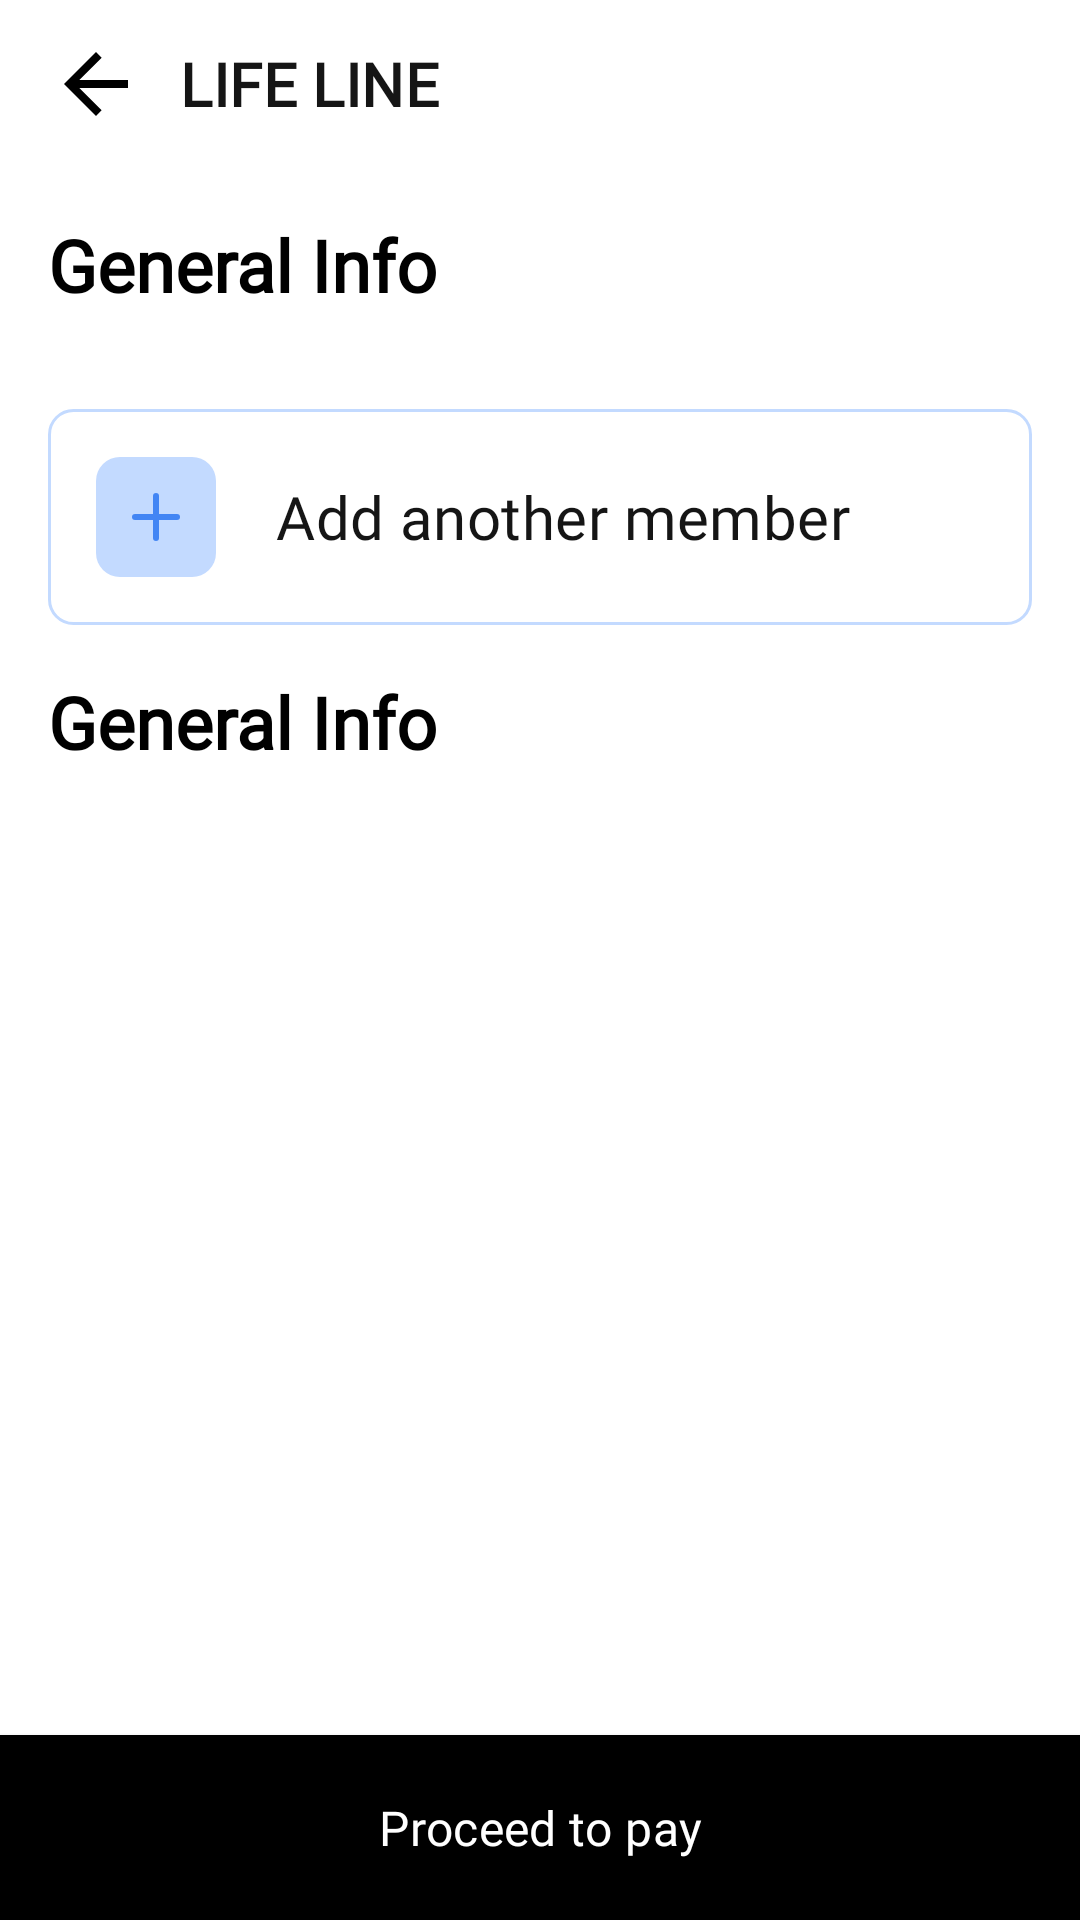

Locate icon controls on the screen. Image size 1080w x 1920h, boxes as (x1, y1, x2, y2).
arrow back: (64, 52, 128, 116)
plus: (96, 457, 216, 577)
